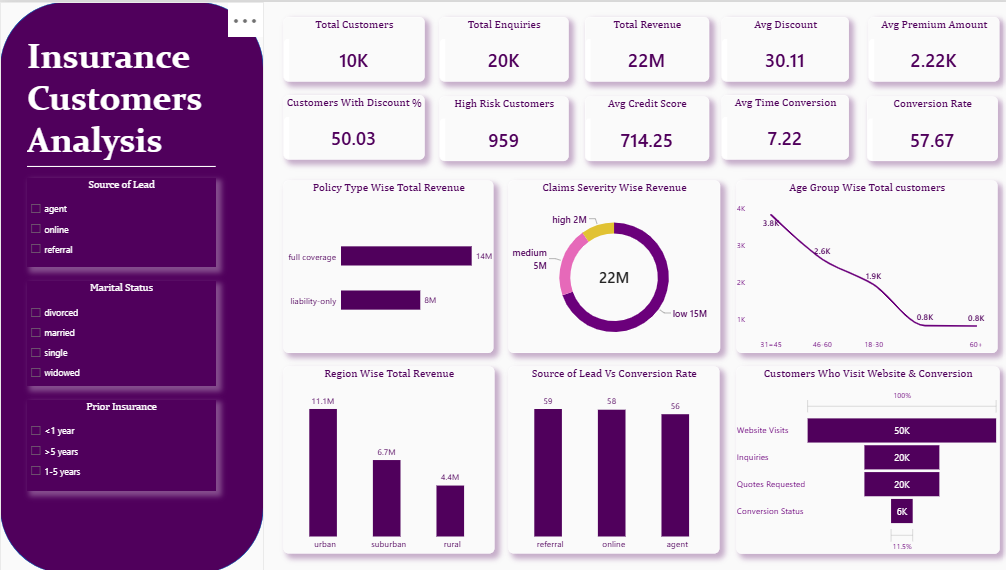

What the dashboard file says about the page in this screenshot:
{"tool":"powerbi","page":{"name":"Page 1","canvas":[1920,1080],"ordinal":0},"visuals":[{"type":"shape","box":[0,0,498.2,1080],"z":0},{"type":"cardVisual","title":"Total Customers","fields":{"Data":["insurance_clean.total customers"]},"box":[535.8,28.3,266.8,122.1],"z":1000},{"type":"cardVisual","title":"High Risk Customers","fields":{"Data":["insurance_clean.high risk customer"]},"box":[830.6,178.6,243.8,121.9],"z":2000},{"type":"cardVisual","title":"Conversion Rate","fields":{"Data":["insurance_clean.conversion rate"]},"box":[1638.4,178.6,247.5,122.1],"z":3000},{"type":"cardVisual","title":"Avg Time Conversion","fields":{"Data":["insurance_clean.avg time conversion"]},"box":[1363.5,175.7,240.9,121.9],"z":4000},{"type":"cardVisual","title":"Customers With Discount % ","fields":{"Data":["insurance_clean.% customer with discount"]},"box":[535.8,175.7,266.8,122.1],"z":5000},{"type":"cardVisual","title":"Avg Credit Score","fields":{"Data":["Avg(insurance_clean.credit_score)"]},"box":[1105.5,178.6,234.6,122.1],"z":6000},{"type":"cardVisual","title":"Total Enquiries","fields":{"Data":["Sum(insurance_clean.inquiries)"]},"box":[830.6,28.3,243.8,121.9],"z":7000},{"type":"cardVisual","title":"Total Revenue","fields":{"Data":["Sum(insurance_clean.premium_amount)"]},"box":[1105.5,28.3,234.6,122.1],"z":8000},{"type":"cardVisual","title":"Avg Discount","fields":{"Data":["Avg(insurance_clean.total_discounts)"]},"box":[1363.5,28.3,240.9,121.9],"z":9000},{"type":"cardVisual","title":"Avg Premium Amount","fields":{"Data":["Avg(insurance_clean.premium_amount)"]},"box":[1641.3,28.3,247.5,122.1],"z":10000},{"type":"actionButton","title":"Insurance Customers Analysis","box":[51.4,61.1,388.9,270],"z":11000},{"type":"shape","box":[51.4,282.9,356.8,54.6],"z":12000},{"type":"columnChart","title":"Region Wise Total Revenue","fields":{"Category":["insurance_clean.region"],"Y":["Sum(insurance_clean.premium_amount)"]},"box":[536.8,687.9,398.6,353.6],"z":13000},{"type":"barChart","title":"Policy Type Wise Total Revenue","fields":{"Y":["Sum(insurance_clean.premium_amount)"],"Category":["insurance_clean.policy_type"]},"box":[535.8,337.3,396.9,326],"z":13001},{"type":"donutChart","title":"Claims Severity Wise Revenue ","fields":{"Category":["insurance_clean.claims_severity"],"Y":["Sum(insurance_clean.premium_amount)"]},"box":[961,337.3,399.7,326],"z":13002},{"type":"lineChart","title":"Age Group Wise Total customers","fields":{"Category":["insurance_clean.age_group"],"Y":["insurance_clean.total customers"]},"box":[1391.8,337.3,493.2,326],"z":13003},{"type":"columnChart","title":"Source of Lead Vs Conversion Rate","fields":{"Category":["insurance_clean.source_of_lead"],"Y":["insurance_clean.conversion rate"]},"box":[961,688.8,398.6,353.6],"z":13004},{"type":"funnel","title":"Customers Who Visit Website & Conversion","fields":{"Y":["Sum(insurance_clean.website_visits)","Sum(insurance_clean.inquiries)","Sum(insurance_clean.quotes_requested)","Sum(insurance_clean.conversion_status)"]},"box":[1391.8,688.8,497,354],"z":13005},{"type":"slicer","title":"Source of Lead","fields":{"Values":["insurance_clean.source_of_lead"]},"box":[51,331.7,357.2,170.1],"z":13006},{"type":"slicer","title":"Marital Status","fields":{"Values":["insurance_clean.marital_status"]},"box":[51,527.2,357.2,198.4],"z":13007},{"type":"slicer","title":"Prior Insurance","fields":{"Values":["insurance_clean.prior_insurance"]},"box":[51,751.2,357.2,172.9],"z":13008}]}

Visuals, with their boxes in screenshot pixels (x1, y1, x2, y2), scaled from the page's 1920x1080 canvas onto the 1006x570 screenshot:
shape: {"x1": 0, "y1": 0, "x2": 261, "y2": 569}
"Total Customers" cardVisual: {"x1": 281, "y1": 15, "x2": 421, "y2": 79}
"High Risk Customers" cardVisual: {"x1": 435, "y1": 94, "x2": 563, "y2": 159}
"Conversion Rate" cardVisual: {"x1": 858, "y1": 94, "x2": 988, "y2": 159}
"Avg Time Conversion" cardVisual: {"x1": 714, "y1": 93, "x2": 841, "y2": 157}
"Customers With Discount % " cardVisual: {"x1": 281, "y1": 93, "x2": 421, "y2": 157}
"Avg Credit Score" cardVisual: {"x1": 579, "y1": 94, "x2": 702, "y2": 159}
"Total Enquiries" cardVisual: {"x1": 435, "y1": 15, "x2": 563, "y2": 79}
"Total Revenue" cardVisual: {"x1": 579, "y1": 15, "x2": 702, "y2": 79}
"Avg Discount" cardVisual: {"x1": 714, "y1": 15, "x2": 841, "y2": 79}
"Avg Premium Amount" cardVisual: {"x1": 860, "y1": 15, "x2": 990, "y2": 79}
"Insurance Customers Analysis" actionButton: {"x1": 27, "y1": 32, "x2": 231, "y2": 175}
shape: {"x1": 27, "y1": 149, "x2": 214, "y2": 178}
"Region Wise Total Revenue" columnChart: {"x1": 281, "y1": 363, "x2": 490, "y2": 550}
"Policy Type Wise Total Revenue" barChart: {"x1": 281, "y1": 178, "x2": 489, "y2": 350}
"Claims Severity Wise Revenue " donutChart: {"x1": 504, "y1": 178, "x2": 713, "y2": 350}
"Age Group Wise Total customers" lineChart: {"x1": 729, "y1": 178, "x2": 988, "y2": 350}
"Source of Lead Vs Conversion Rate" columnChart: {"x1": 504, "y1": 364, "x2": 712, "y2": 550}
"Customers Who Visit Website & Conversion" funnel: {"x1": 729, "y1": 364, "x2": 990, "y2": 550}
"Source of Lead" slicer: {"x1": 27, "y1": 175, "x2": 214, "y2": 265}
"Marital Status" slicer: {"x1": 27, "y1": 278, "x2": 214, "y2": 383}
"Prior Insurance" slicer: {"x1": 27, "y1": 396, "x2": 214, "y2": 488}
